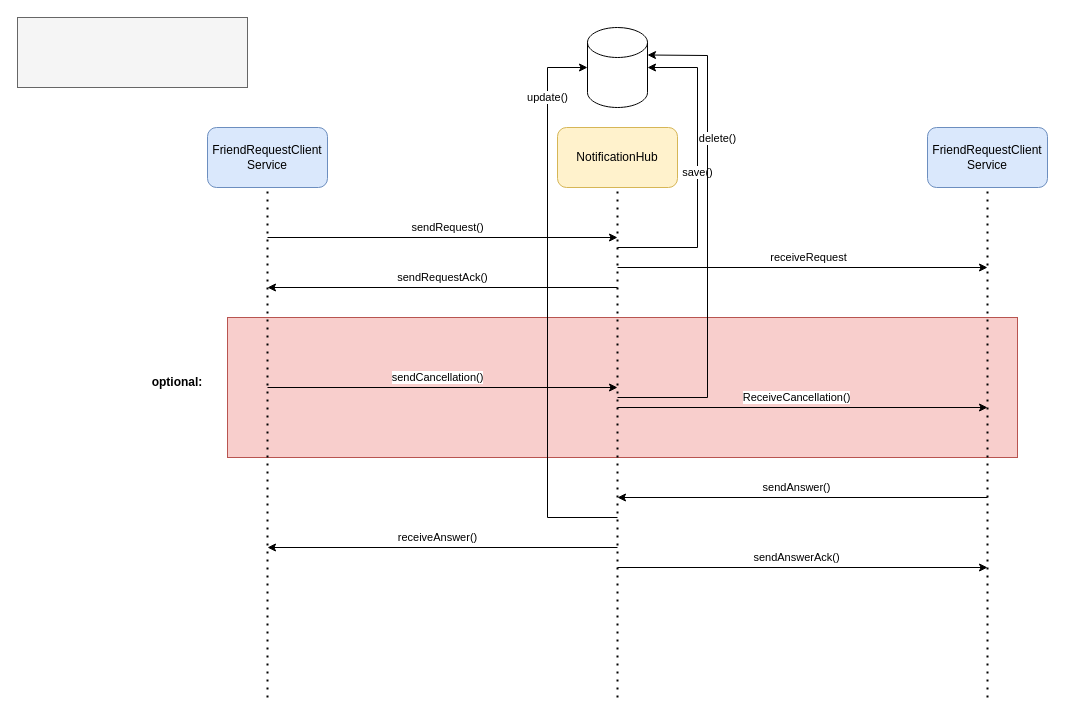
This 1065x717 diagram has some shape labels left out. The centre of each missing label's shape, as x and y in pixels:
DB: [617,67]
Diagram to show how Friend Requests are being processed: [132,52]
